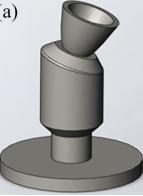thruster: (58, 0, 121, 54)
